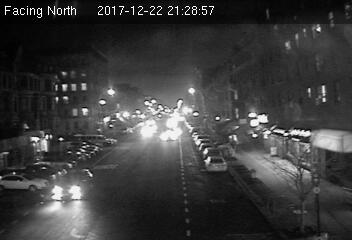car: (49, 168, 94, 199), (204, 155, 228, 173), (160, 128, 179, 142)
